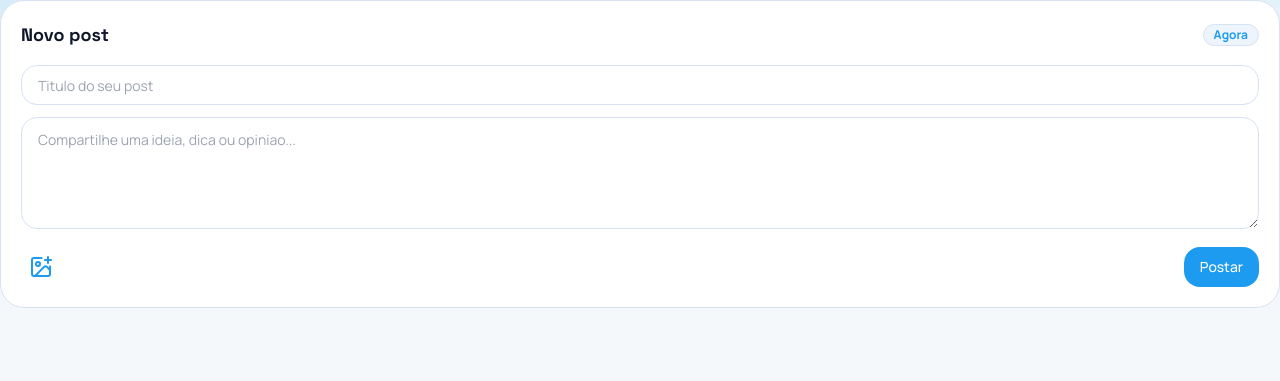
Scenario: PostComposer › mostra campo de imagem ao clicar em anexar
Expected: the field with placeholder "URL da imagem (opcional)" is not shown
What coordinates should you click on to do the following:
click the button named "Anexar imagem"
I would click on:
 (41, 267)
Its box is [21,247,61,287].
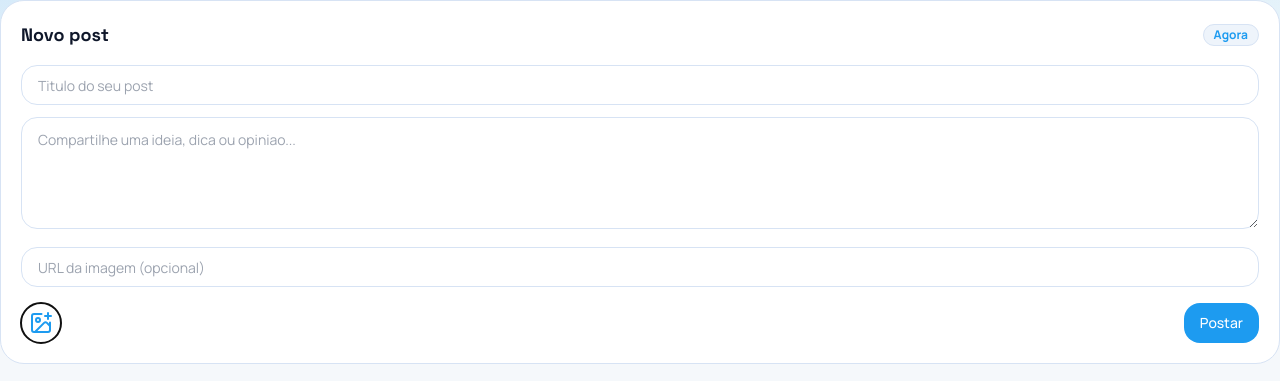
Expected: the field with placeholder "URL da imagem (opcional)" is shown, [21,247,1259,287]
